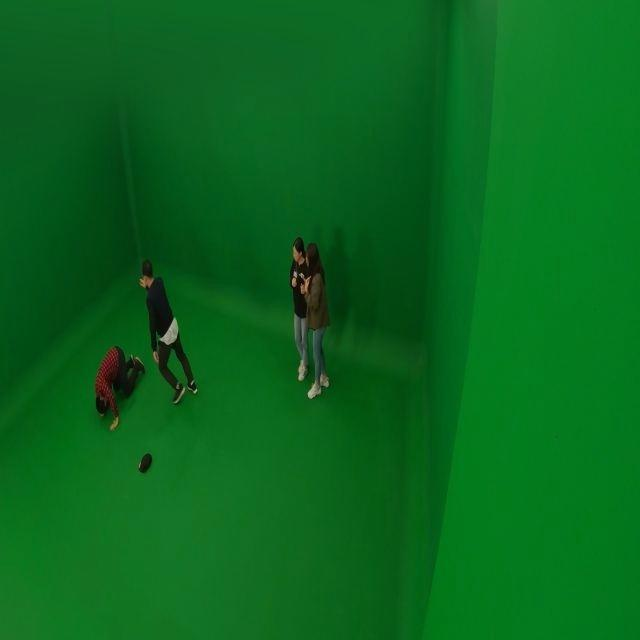fight: (98, 259, 200, 432)
non-fight: (300, 237, 328, 400), (290, 241, 310, 381)
